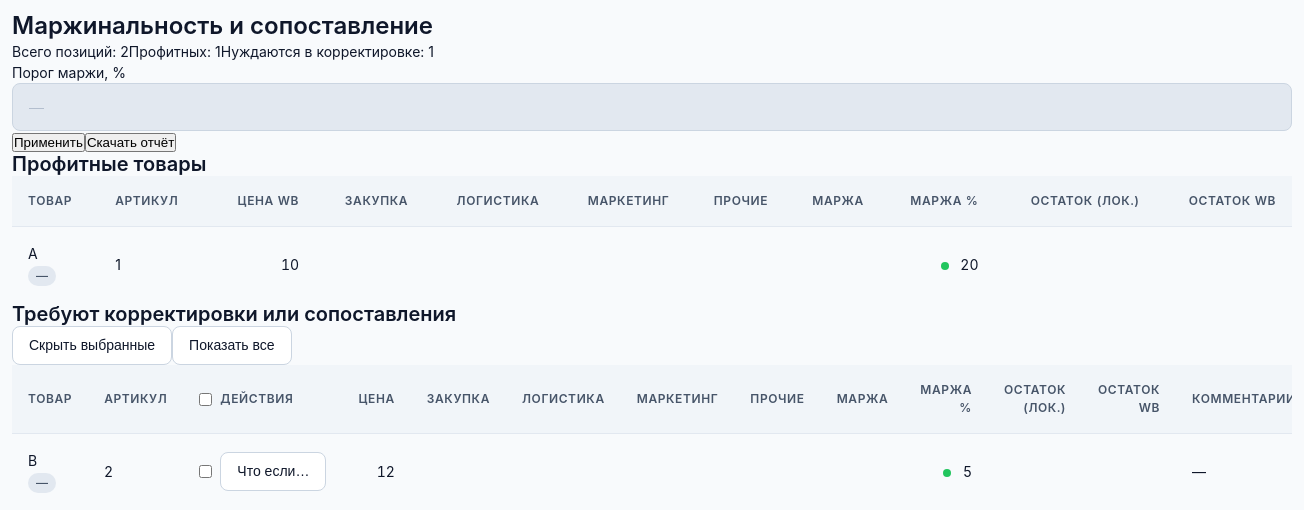
Test: Analytics table UX (render) › renders status dots for margin percent and allows hide selected
This screenshot has width=1304, height=510.
expect the element with class "status-dot" next to "20" is shown: met, box [941, 262, 949, 270]
select all and hide (there are multiple checkboxes: header + row)
What coordinates should you click on to do the following:
click the checkbox next to "Действия"
I would click on:
 (206, 399)
Its box is [199, 393, 212, 406].
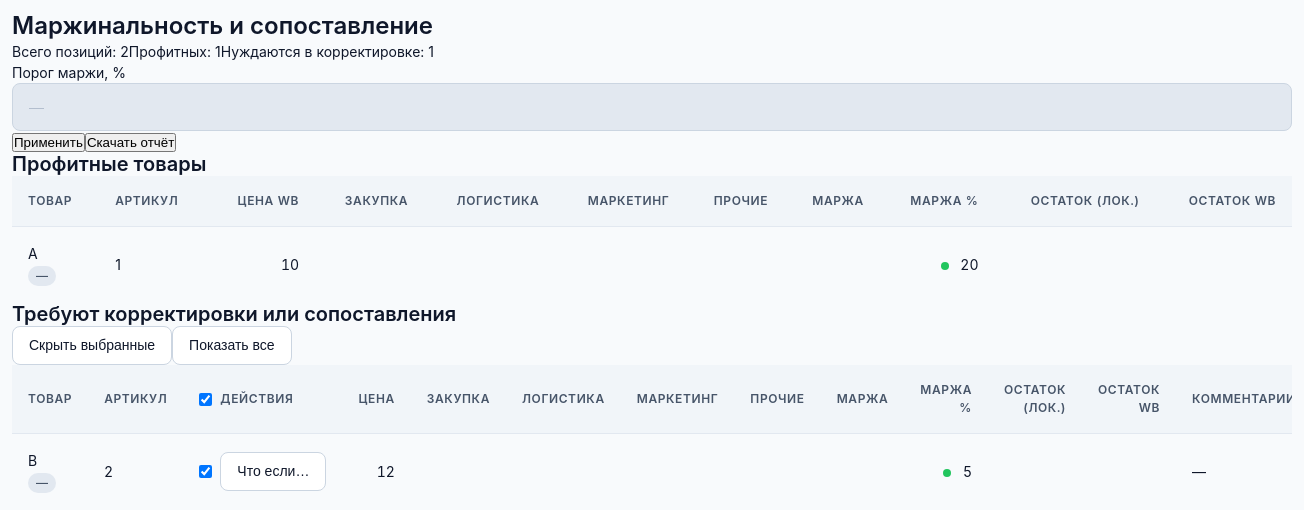
What coordinates should you click on to do the following:
click the button "Скрыть выбранные"
I would click on:
 (92, 346)
Its box is [12, 326, 172, 365].
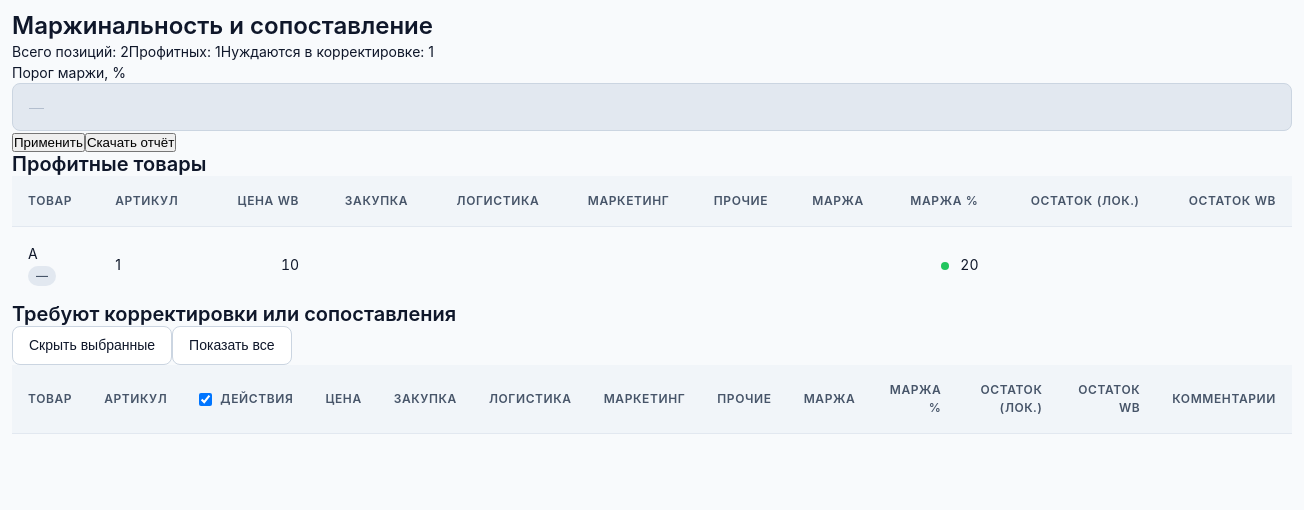
show all restores
What coordinates should you click on to do the following:
click the button "Показать все"
I would click on:
 (232, 346)
Its box is [172, 326, 292, 365].
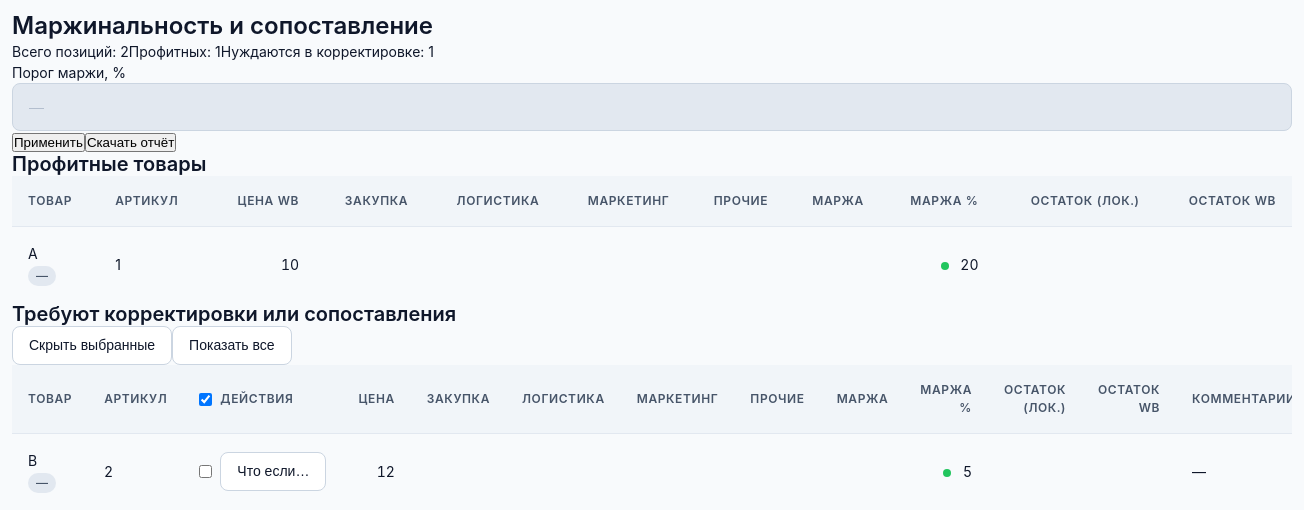
expect the text "B" is shown: met, box [28, 452, 37, 469]
